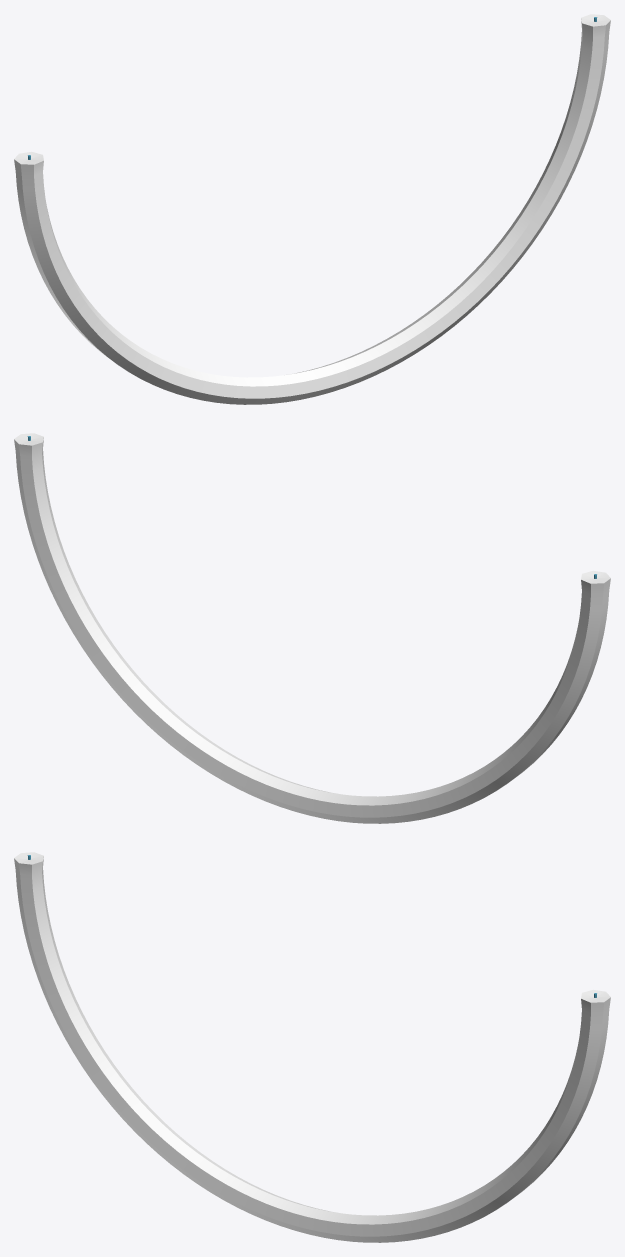
File: gizmoRotateZ.fbx
3 views of the same model, one above another, from view 1: azimuth 30°, elevation 25°; view 2: azimuth 150°, elevation 25°; view 3: azimuth 330°, elevation 25° (orthographic).
Parts seen in each view (by area): view 1: gizmoRotateZ; view 2: gizmoRotateZ; view 3: gizmoRotateZ.
Part boxes in pixels (<box>): gizmoRotateZ: <box>14,14,610,404</box>; gizmoRotateZ: <box>14,433,610,823</box>; gizmoRotateZ: <box>14,852,610,1242</box>.
Bounding box in the file's own units: 65.17 × 32.47 × 2.9.
1 material, 1 textured.
